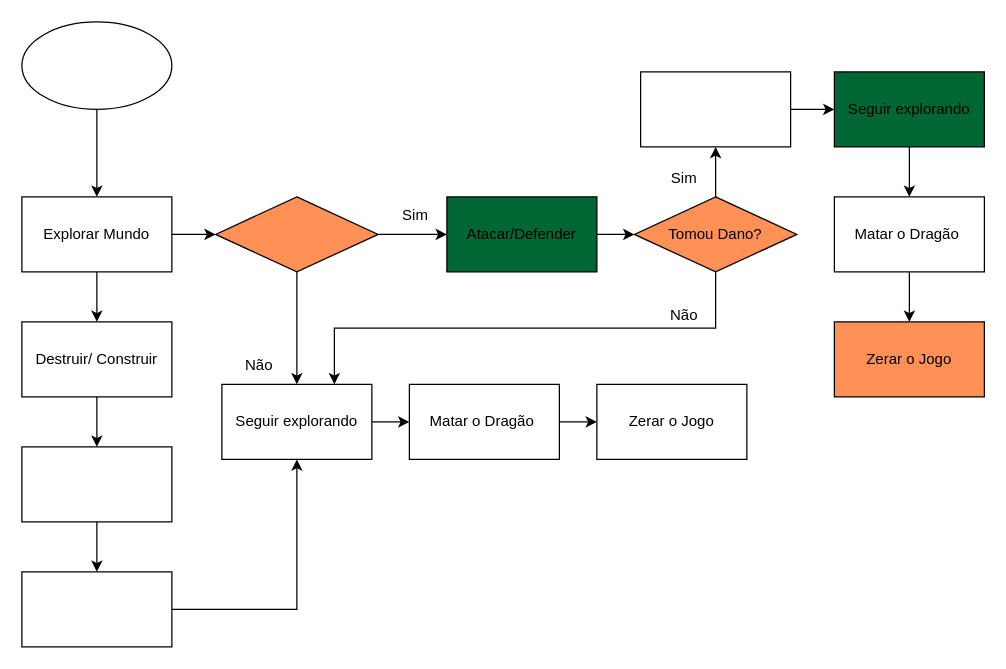
Image size: 1006x669. Some labels were removed from this diagram. Each missing label, with the box of its shape:
Abrir inventário: (21, 446, 172, 522)
Criar mundo: (21, 21, 172, 109)
Curar/ Comer: (639, 71, 791, 147)
Mob detectado atacar?: (214, 196, 378, 272)
Pegar/ craftar itens: (21, 571, 172, 647)
